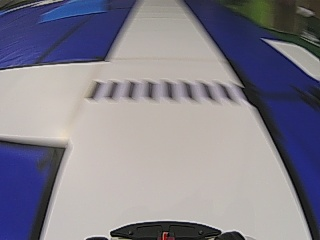CrossWalk: (87, 78, 232, 104)
